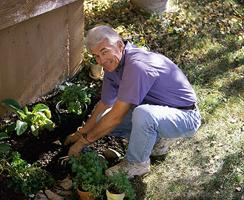person: (63, 24, 202, 178)
